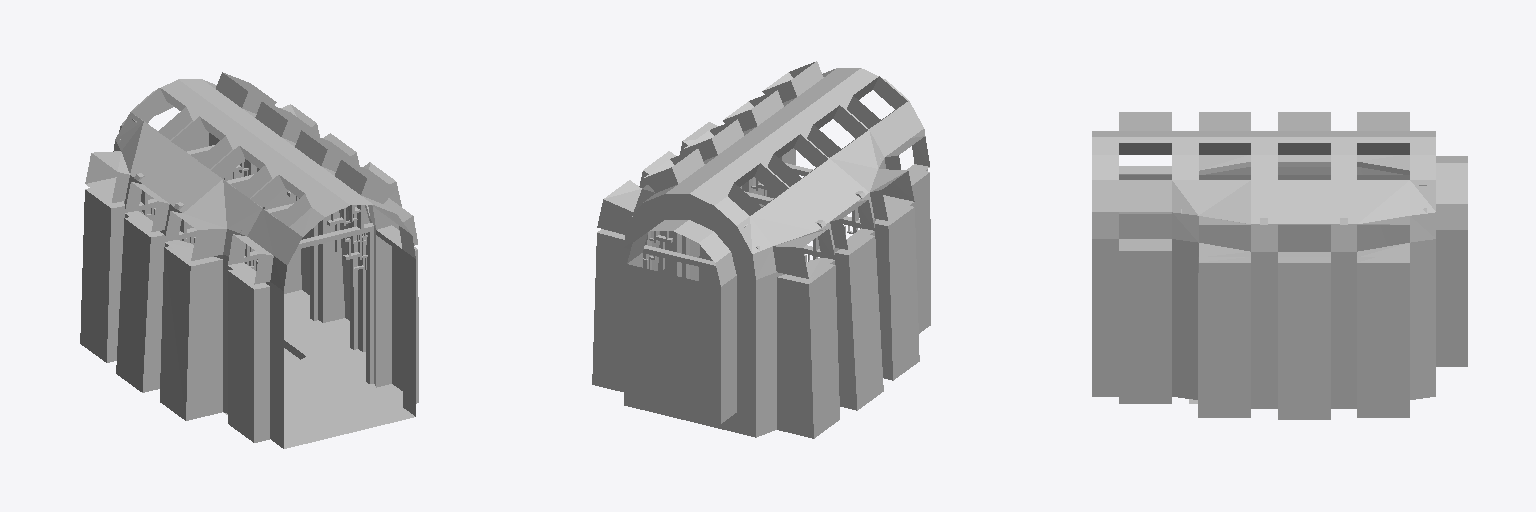
Rendered from Room04.obj.
The picture shows the model from 3 angles: view 1: azimuth 30°, elevation 25°; view 2: azimuth 150°, elevation 25°; view 3: azimuth 270°, elevation 25°; orthographic projection.
Visible parts, largest first — view 1: Room01:group3 Room01:pCylinder2 Remd_CAM1, Room01:beam4 Room01:group3 Remd_CAM1, Room01:beam2 Room01:beam3 Room01:group3 Remd_CAM1; view 2: Room01:group3 Room01:pCylinder2 Remd_CAM1, Room01:beam2 Room01:beam3 Room01:group3 Remd_CAM1, Room01:beam5 Room01:group3 Remd_CAM1; view 3: Room01:group3 Room01:pCylinder2 Remd_CAM1.
Boxes of the visible parts, box(x1,y1,x2,y2) form: Room01:group3 Room01:pCylinder2 Remd_CAM1: box(80, 72, 418, 448); Room01:beam4 Room01:group3 Remd_CAM1: box(240, 205, 373, 383); Room01:beam2 Room01:beam3 Room01:group3 Remd_CAM1: box(134, 173, 357, 349); Room01:group3 Room01:pCylinder2 Remd_CAM1: box(592, 61, 930, 438); Room01:beam2 Room01:beam3 Room01:group3 Remd_CAM1: box(643, 183, 865, 278); Room01:beam5 Room01:group3 Remd_CAM1: box(629, 216, 759, 270); Room01:group3 Room01:pCylinder2 Remd_CAM1: box(1092, 112, 1467, 419).
Size of the model in its own units: 1002 by 1074 by 1422.